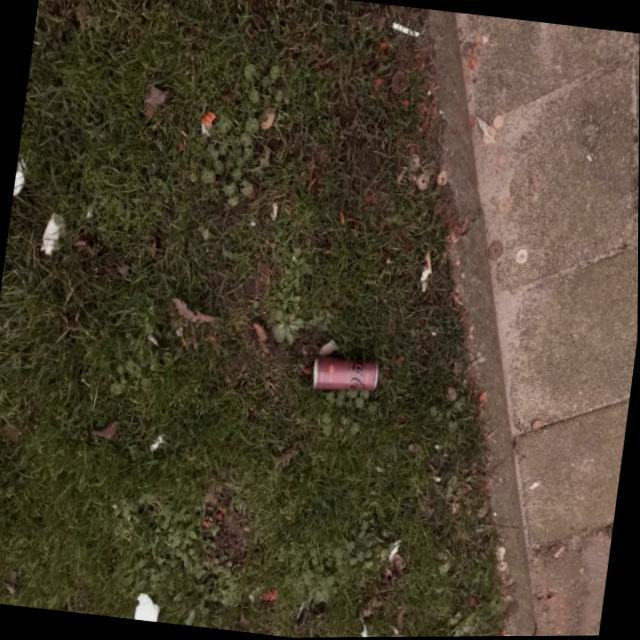Can-Metal: (309, 351, 380, 397)
Paper: (38, 209, 65, 257), (133, 590, 162, 622), (11, 155, 29, 198)
